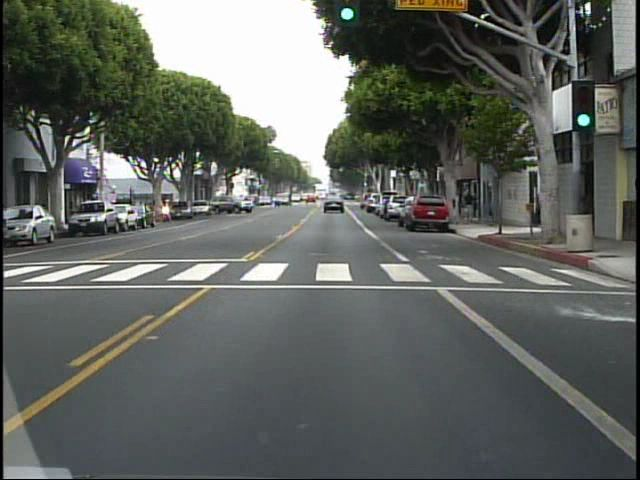car: (6, 204, 60, 243), (71, 199, 119, 238), (404, 196, 449, 234), (212, 195, 252, 215), (321, 192, 349, 216)
strada: (7, 295, 633, 476)
striscie pedonali: (4, 261, 606, 287)
